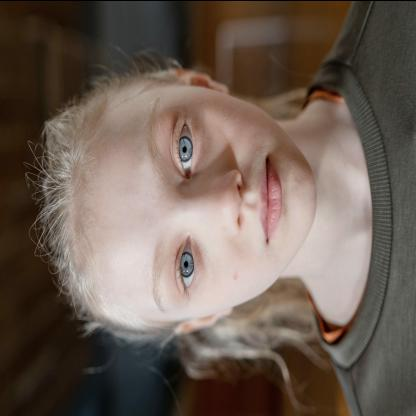Eye: (165, 102, 202, 184), (168, 229, 200, 305)
Mouth: (254, 148, 284, 252)
Nose: (180, 166, 244, 236)
